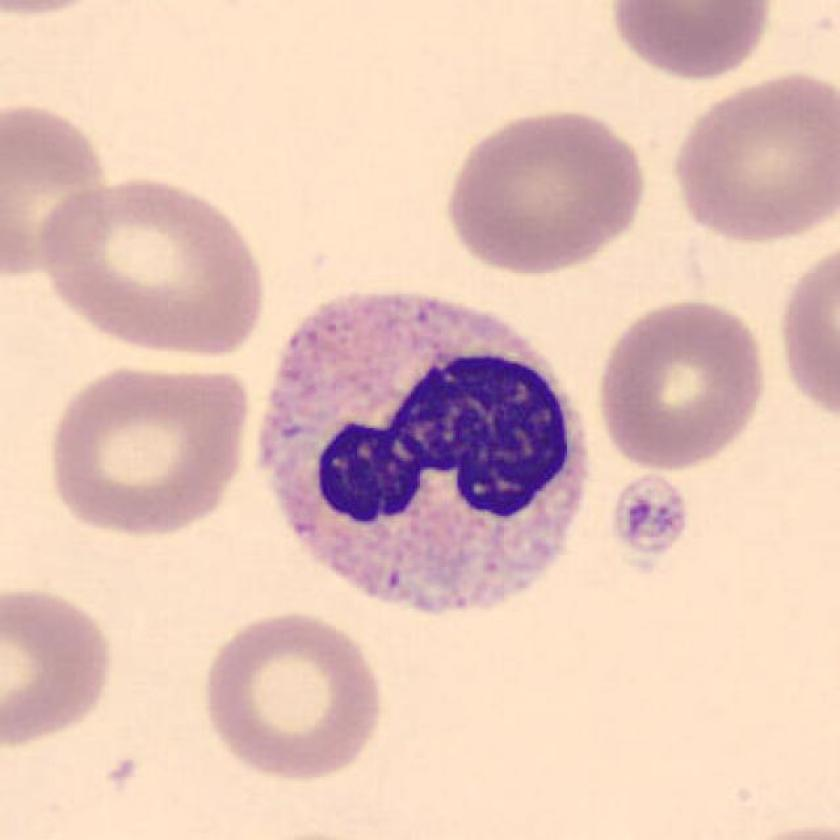neutrophil: (262, 291, 585, 615)
